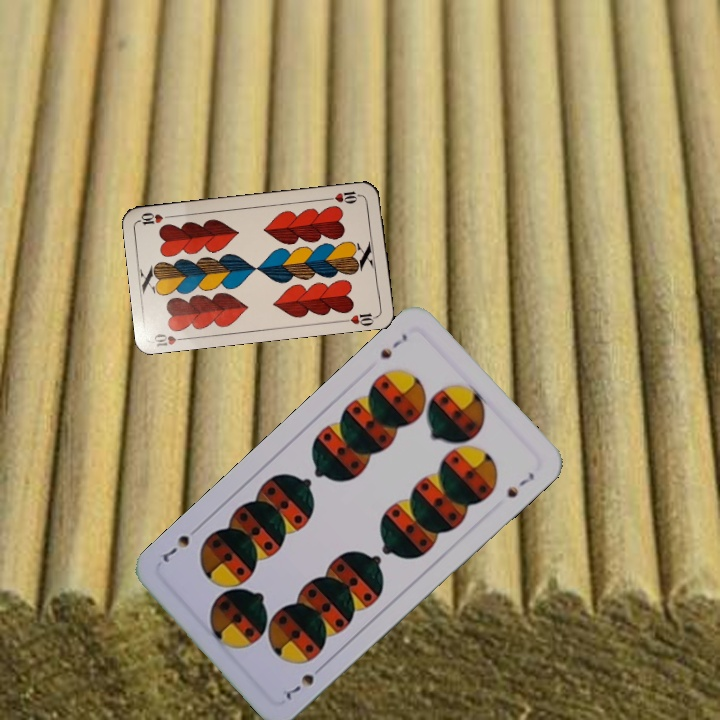H10: (150, 328, 191, 349), (324, 187, 364, 206)
S7: (282, 660, 328, 702), (375, 329, 410, 362)
